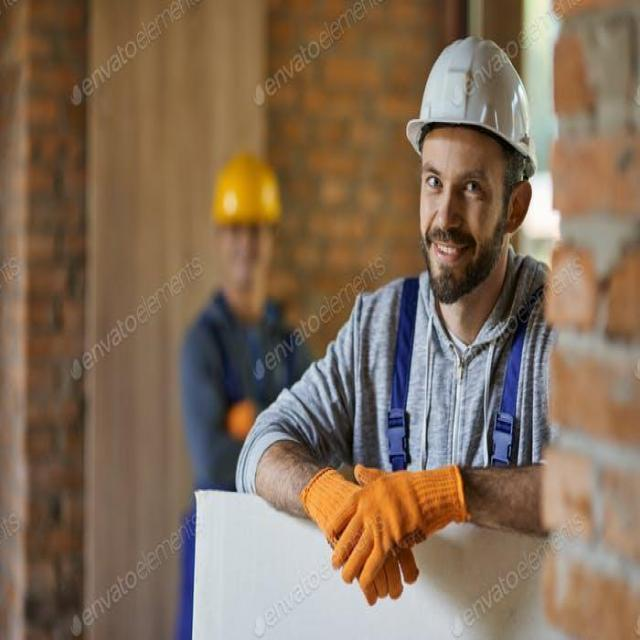hat: (405, 34, 538, 177), (210, 149, 282, 222)
